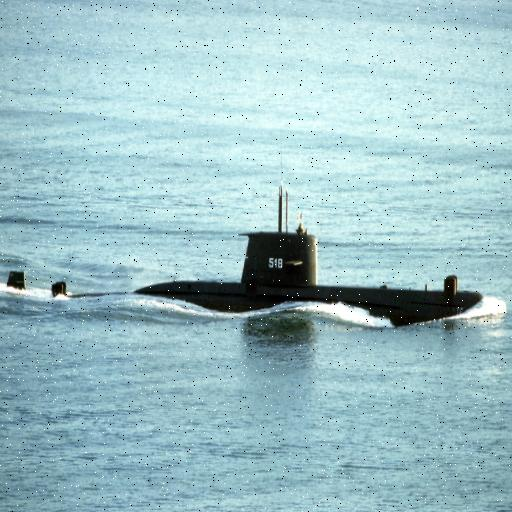submarine: (6, 232, 483, 326)
